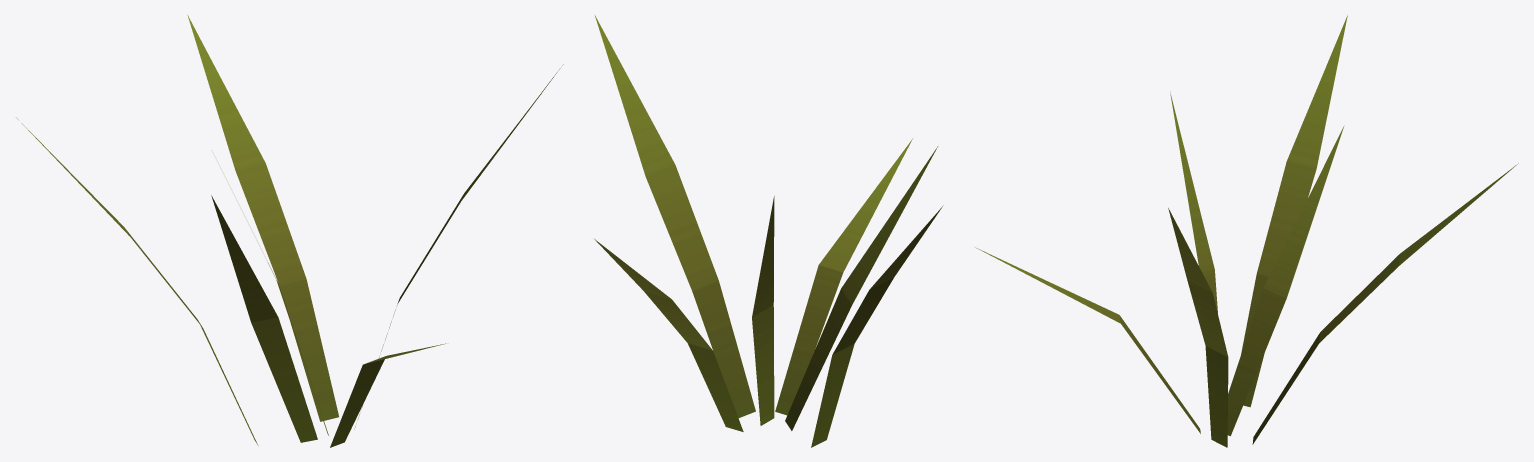
File: Plant_Grass_3.fbx
3 views of the same model, side by side, from view 1: azimuth 30°, elevation 25°; view 2: azimuth 150°, elevation 25°; view 3: azimuth 270°, elevation 25° (orthographic). The views are drawn at different scales.
Visible parts, largest first — view 1: polySurface10614; view 2: polySurface10614; view 3: polySurface10614.
Part boxes in pixels (left/top/right/bottom): polySurface10614: left=16, top=15, right=563, bottom=447; polySurface10614: left=594, top=15, right=943, bottom=447; polySurface10614: left=975, top=15, right=1518, bottom=447.
Size of the model in its own units: 89.41 by 65.26 by 101.
